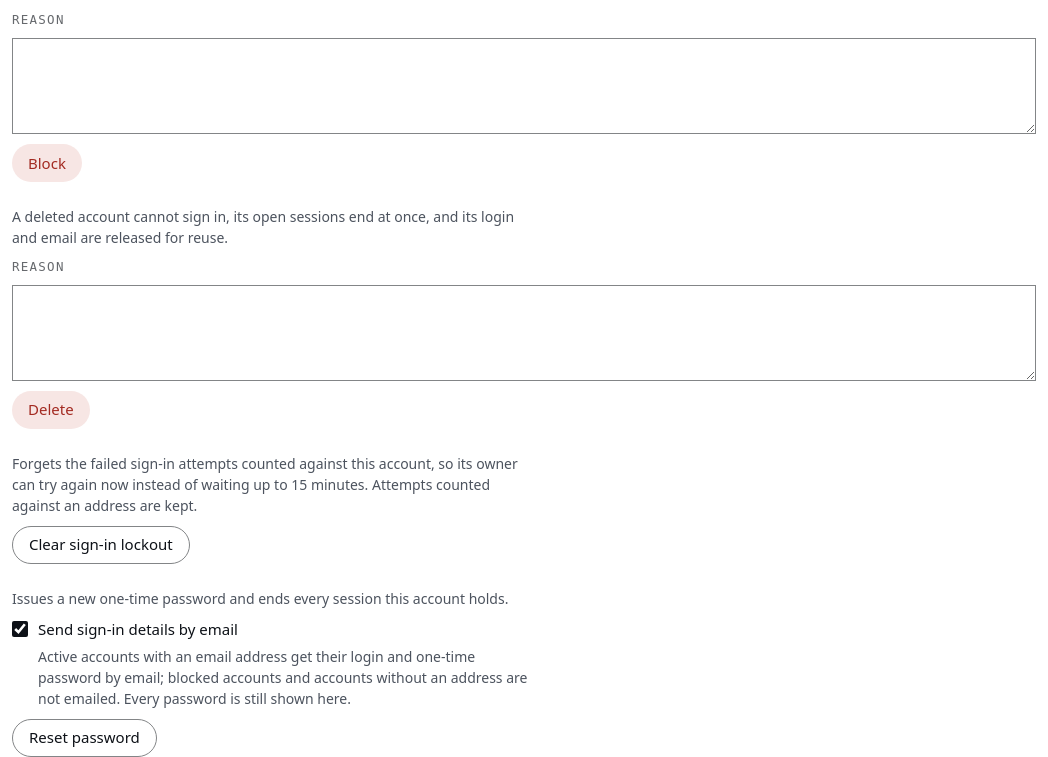
Test: AccountCard, a password reset with the sign-in details by email › ticks the option by default, sends it, and shows the password, the queued email and when it goes
(page scrolled)
Expected: the checkbox labelled "Send sign-in details by email" is checked, [12,622,28,638]
Click the button "Reset password". click: point(84, 738)
box: [12,719,157,756]
(page scrolled)
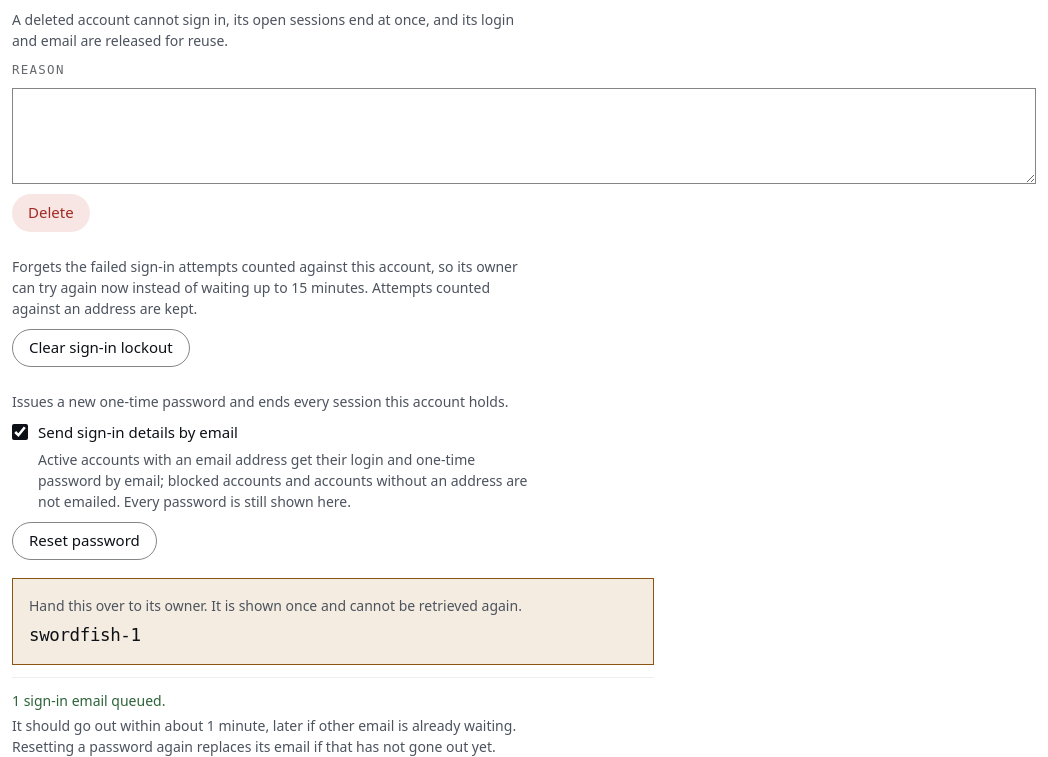
Result: the text "swordfish-1" is shown at [29,625,141,645]
Result: the text "1 sign-in email queued." is shown at [12,691,165,710]
Result: the text "It should go out within about 1 minute" is shown at [12,716,516,735]
